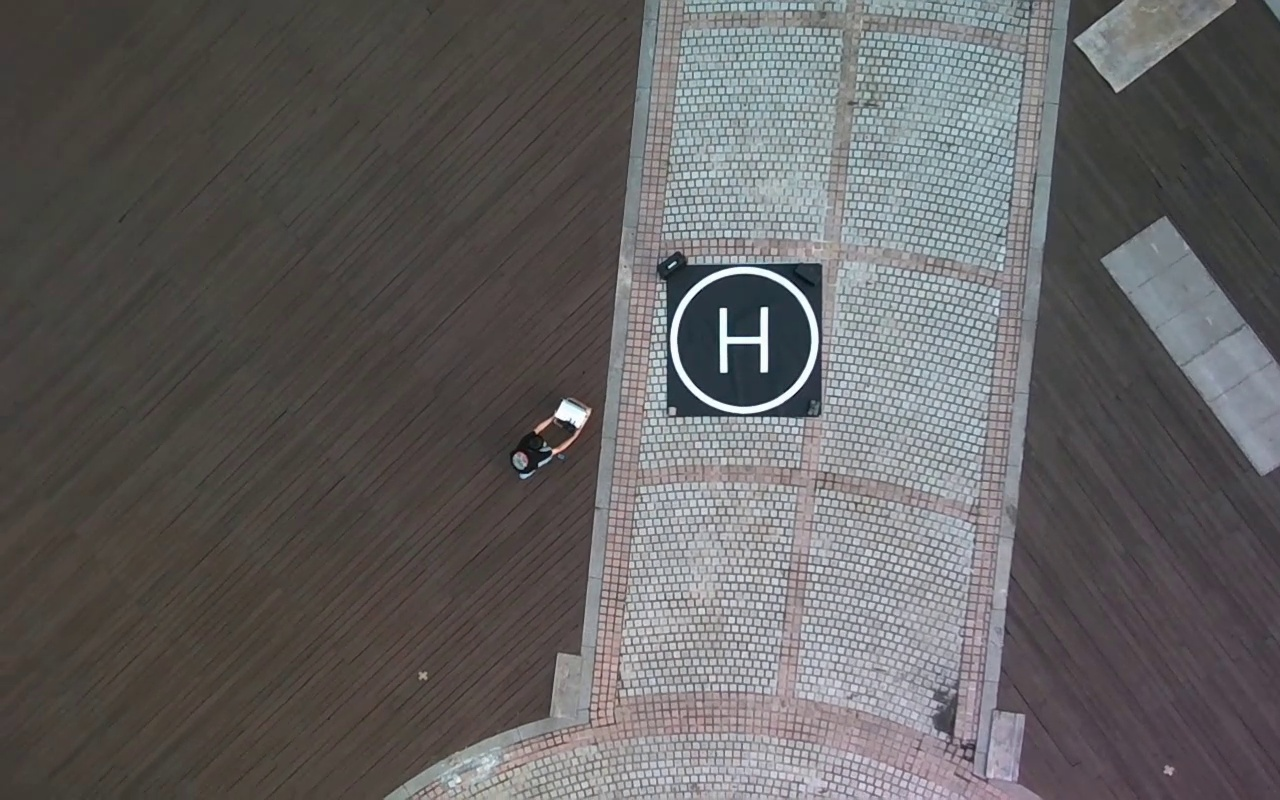H: (717, 304, 768, 375)
heliport: (670, 266, 821, 410)
